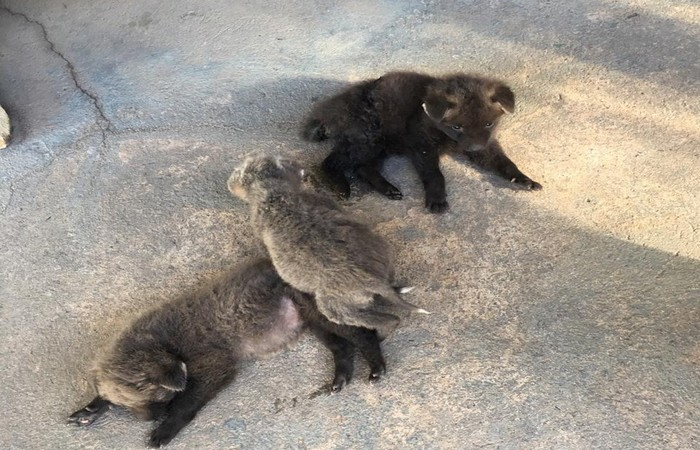LoboGuara: (64, 245, 386, 435), (224, 144, 423, 344), (301, 60, 548, 219)
